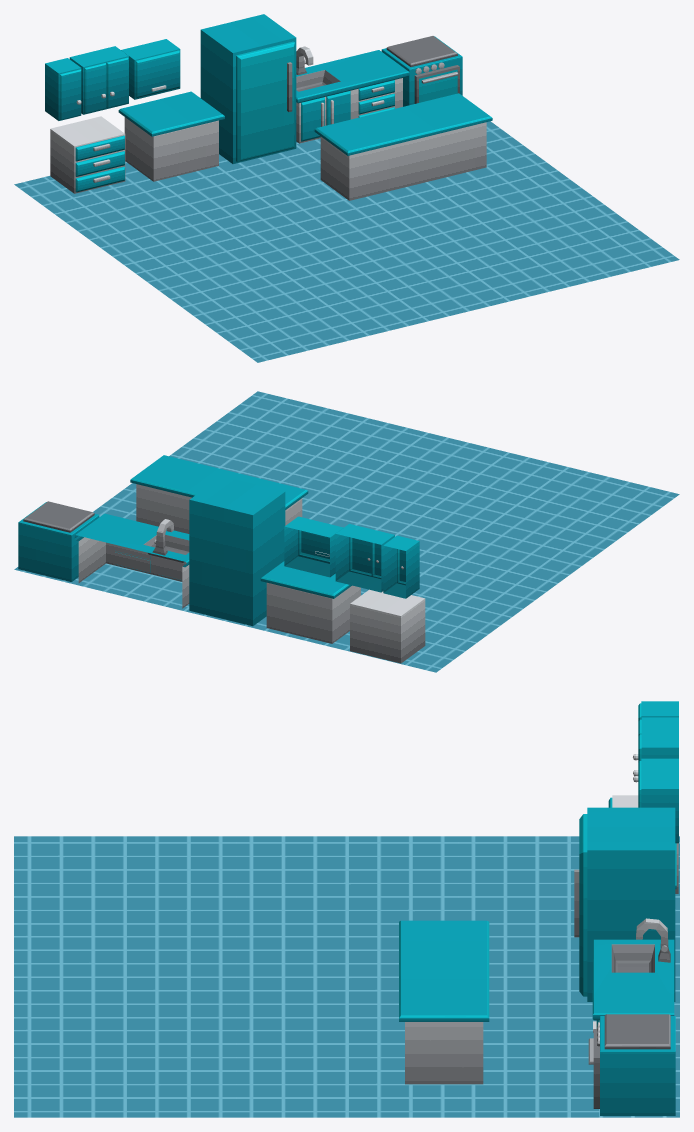
Rendered from s1_Kitchen_v1.fbx.
3 views of the same model, one above another, from view 1: azimuth 30°, elevation 25°; view 2: azimuth 150°, elevation 25°; view 3: azimuth 270°, elevation 25° (orthographic). The views are drawn at different scales.
Visible parts, largest first — view 1: s1_Kitchen_v1; view 2: s1_Kitchen_v1; view 3: s1_Kitchen_v1.
Part boxes in pixels (x1,y1,x2,y2): s1_Kitchen_v1: (14,14,679,362); s1_Kitchen_v1: (14,391,679,672); s1_Kitchen_v1: (14,701,679,1117).
Bounding box in the file's own units: 900 × 233 × 900.
